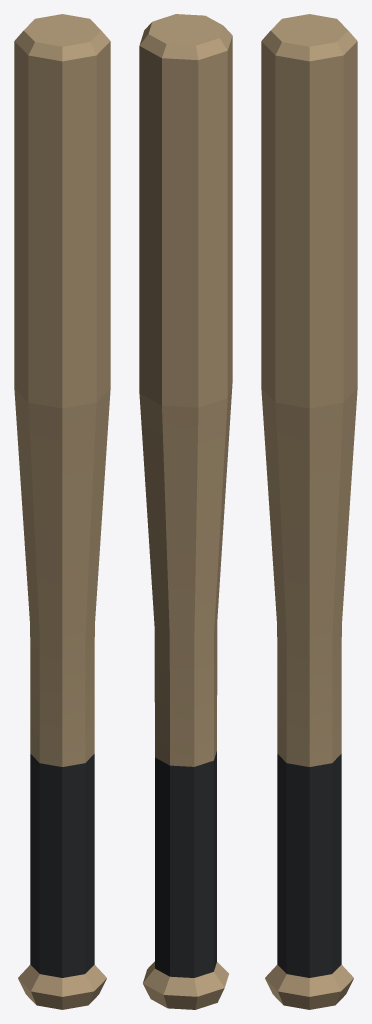
The model's file is SM_Prop_Bat_01.fbx.
3 renders of one model, left to right at view 1: azimuth 90°, elevation 25°; view 2: azimuth 150°, elevation 25°; view 3: azimuth 270°, elevation 25°, orthographic.
Parts seen in each view (by area): view 1: SM_Prop_Bat_01; view 2: SM_Prop_Bat_01; view 3: SM_Prop_Bat_01.
Boxes of the visible parts, x1,y1,x2,y2 form: SM_Prop_Bat_01: (14, 14, 110, 1009); SM_Prop_Bat_01: (139, 14, 232, 1009); SM_Prop_Bat_01: (261, 14, 357, 1009).
Bounding box in the file's own units: 12.03 × 133 × 12.03.
